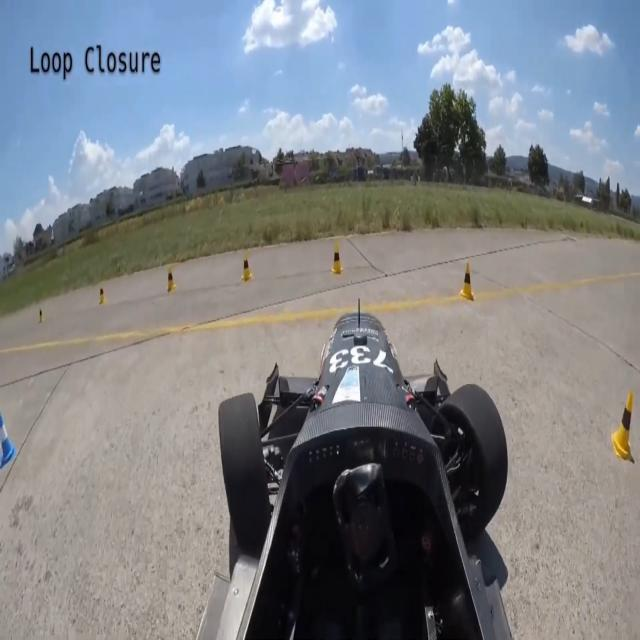blue_cone: (0, 407, 16, 470)
yellow_cone: (609, 389, 638, 463), (460, 260, 476, 302), (331, 242, 344, 276), (241, 254, 253, 283), (166, 267, 177, 292), (97, 284, 107, 306)
